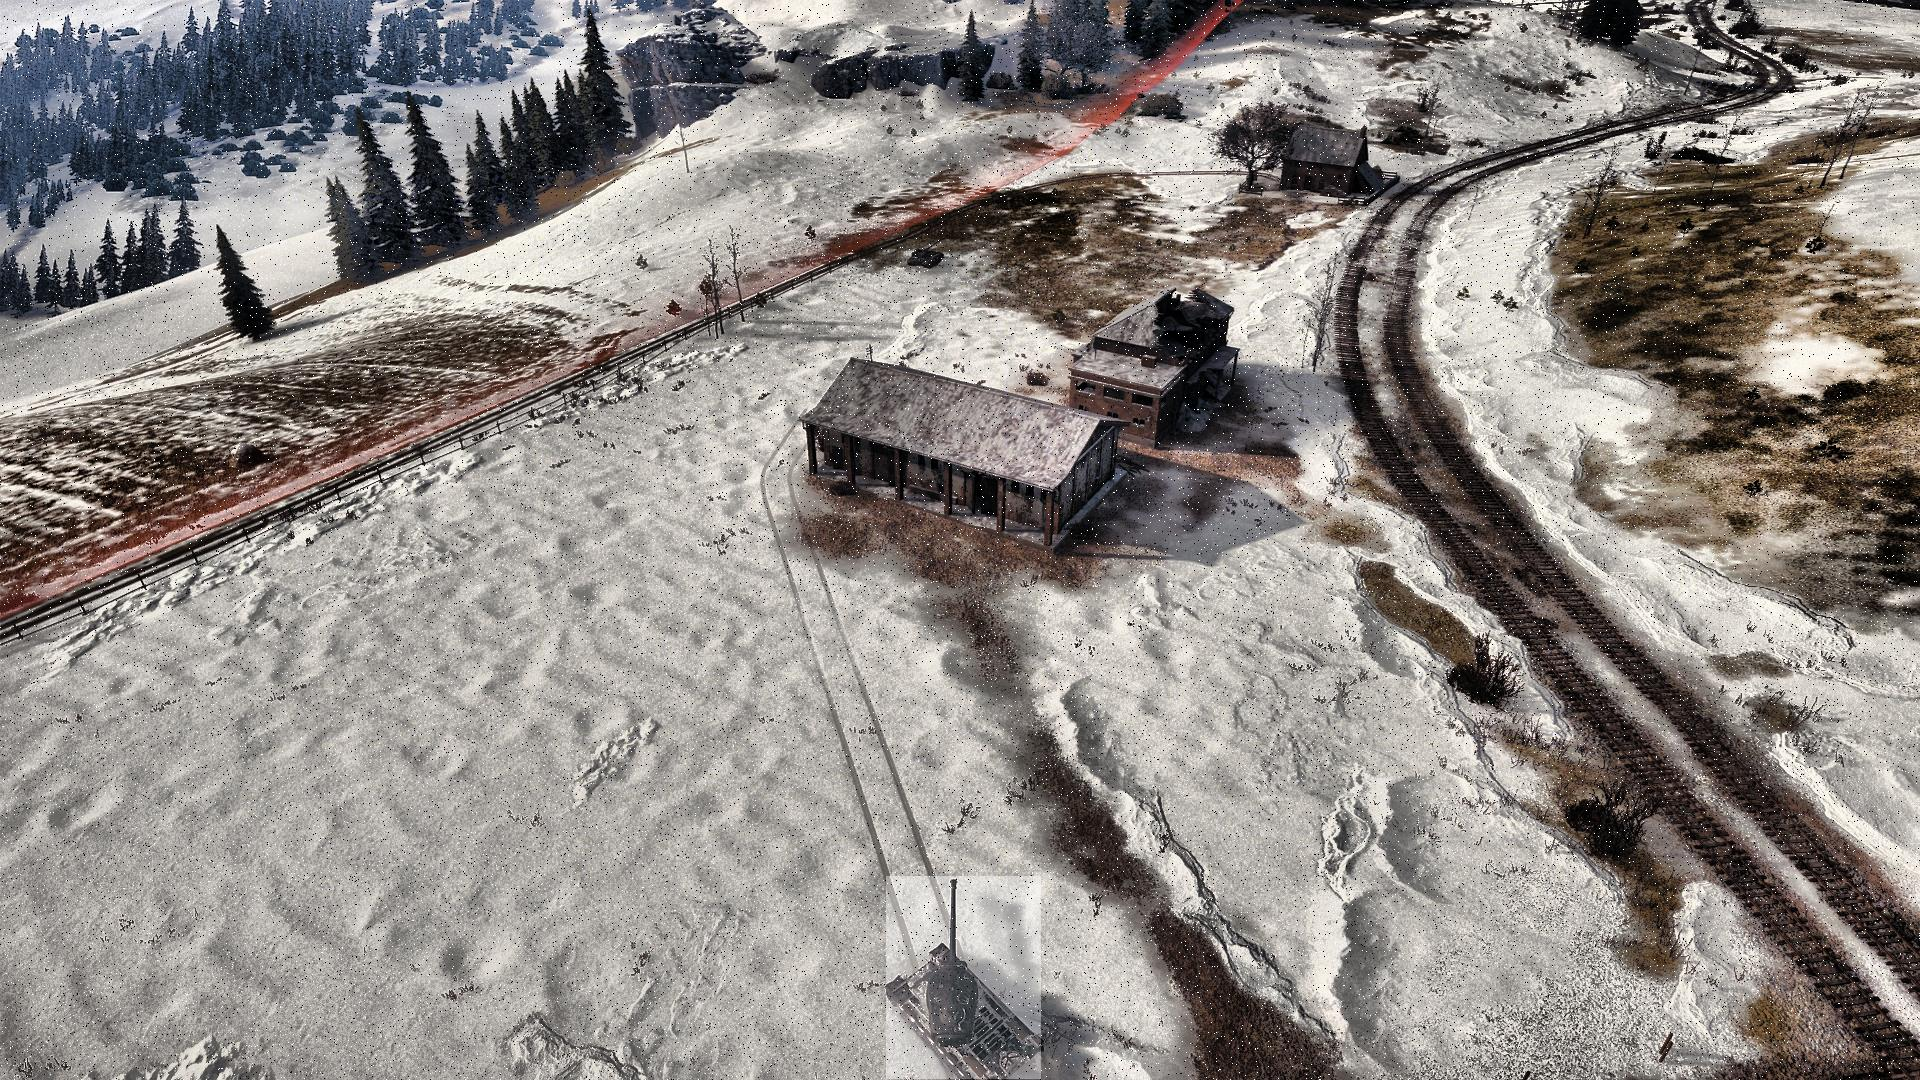military-vehicle: (886, 877, 1042, 1080), (907, 240, 949, 272)
